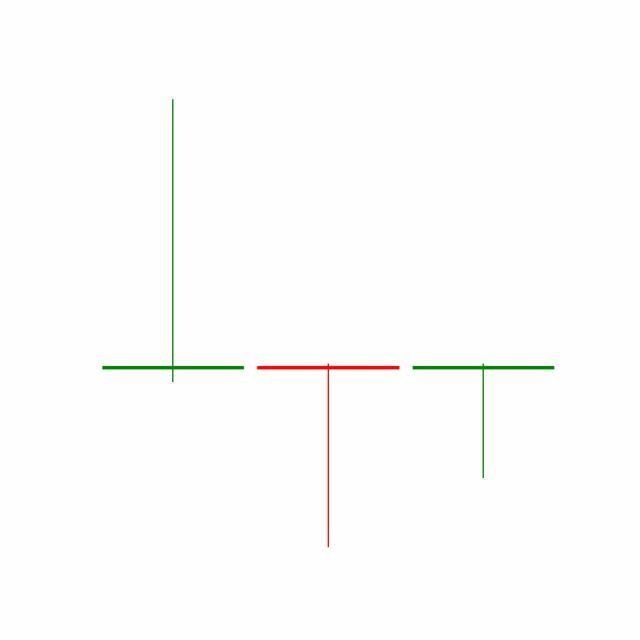Dragonfly Doji: (406, 363, 562, 481)
